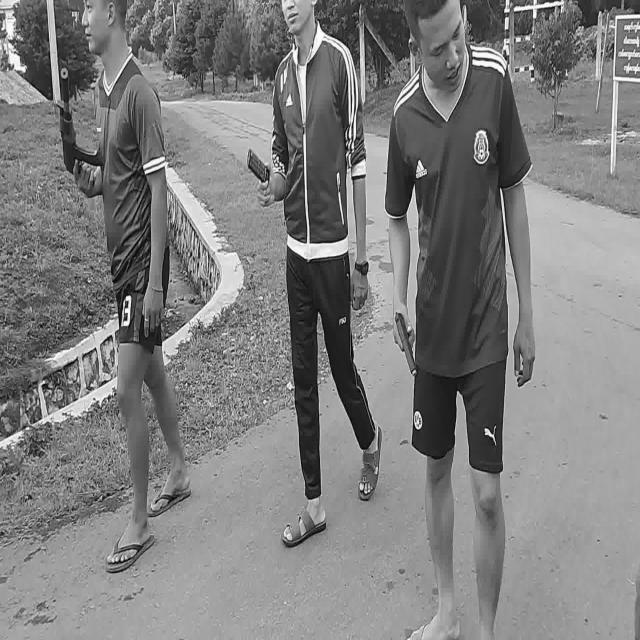gun: (56, 70, 104, 186), (394, 312, 416, 376)
